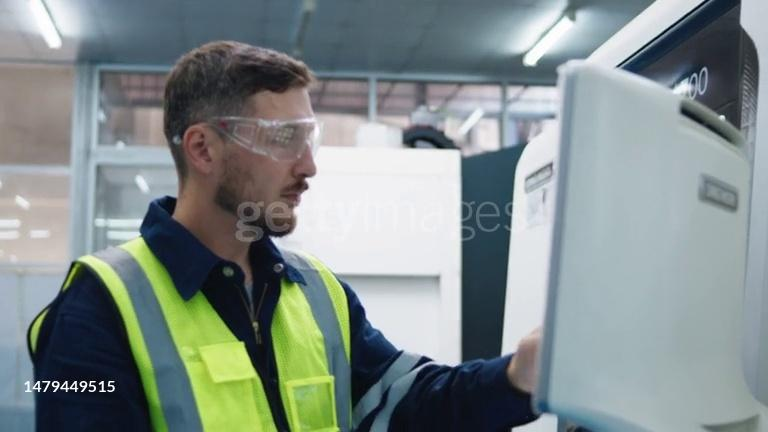person: (22, 34, 546, 432)
